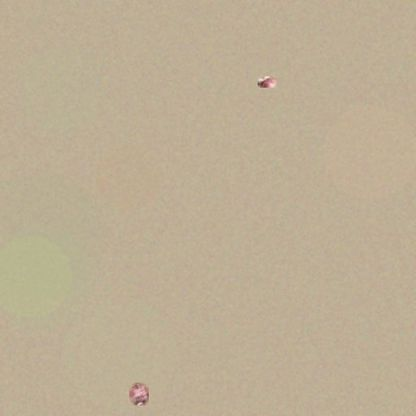rotten: (129, 383, 149, 405)
sprouted: (258, 76, 276, 88)
